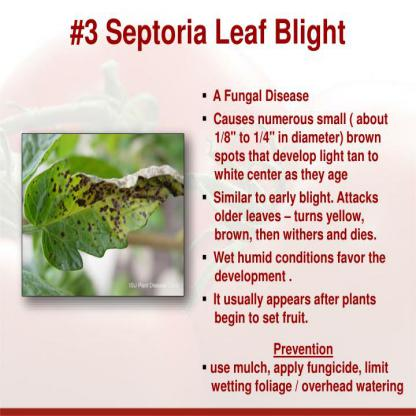tomato septoria leaf spot: (28, 161, 181, 280)
